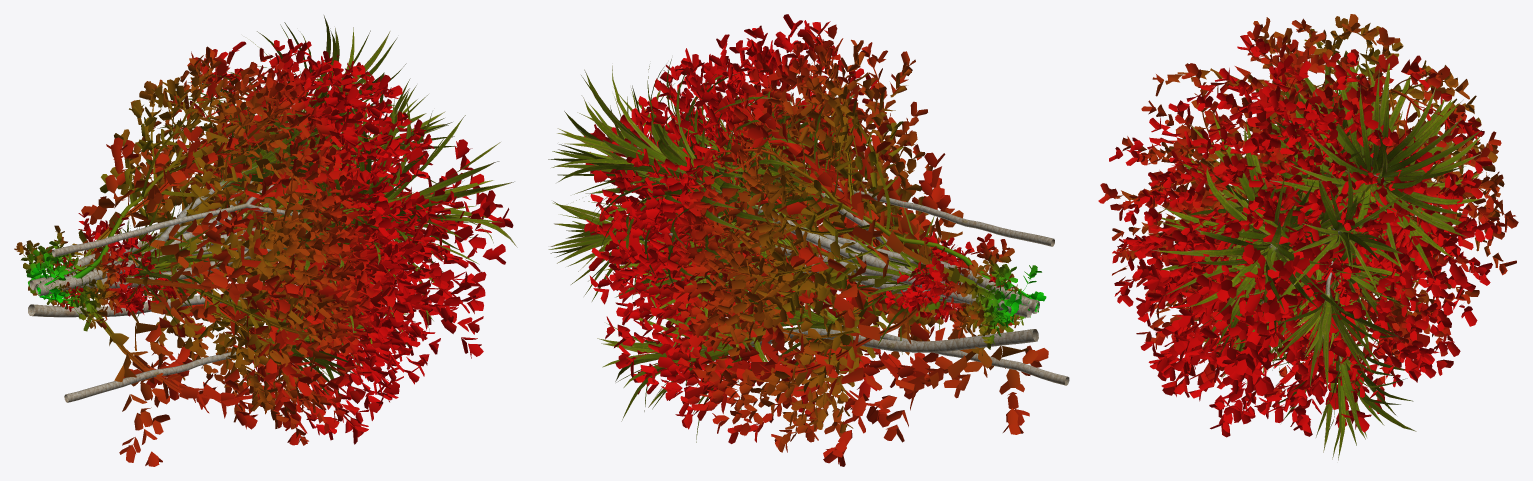
Rendered from Vegetation1.fbx.
3 views of the same model, side by side, from view 1: azimuth 30°, elevation 25°; view 2: azimuth 150°, elevation 25°; view 3: azimuth 270°, elevation 25° (orthographic). The views are drawn at different scales.
Parts seen in each view (by area): view 1: _0lym_Var1_LOD4, _tqwv_Var2_LOD4, _c9yq_Var3_LOD4, _ubx0_Var9_LOD4, _leod_Var6_LOD3, _tbmz_Var4_LOD3, _jtq7_Var3_LOD3, _lfnb_Var2_LOD3, _zkah_Var5_LOD3, _3dai_Var8_LOD3, _oy5o_Var1_LOD3, _8gg7_Var7_LOD3 (+1 smaller); view 2: _c9yq_Var3_LOD4, _tqwv_Var2_LOD4, _0lym_Var1_LOD4, _jtq7_Var3_LOD3, _leod_Var6_LOD3, _ubx0_Var9_LOD4, _zkah_Var5_LOD3, _lfnb_Var2_LOD3, _3dai_Var8_LOD3, _oy5o_Var1_LOD3, _tbmz_Var4_LOD3; view 3: _tqwv_Var2_LOD4, _c9yq_Var3_LOD4, _0lym_Var1_LOD4, _jtq7_Var3_LOD3, _tbmz_Var4_LOD3, _leod_Var6_LOD3, _zkah_Var5_LOD3, _oy5o_Var1_LOD3, _lfnb_Var2_LOD3.
Boxes of the visible parts, x1,y1,x2,y2 form: _0lym_Var1_LOD4: [38, 57, 513, 466]; _tqwv_Var2_LOD4: [36, 39, 468, 440]; _c9yq_Var3_LOD4: [37, 48, 439, 445]; _ubx0_Var9_LOD4: [14, 212, 185, 329]; _leod_Var6_LOD3: [29, 78, 476, 410]; _tbmz_Var4_LOD3: [36, 95, 517, 351]; _jtq7_Var3_LOD3: [36, 15, 406, 295]; _lfnb_Var2_LOD3: [36, 84, 368, 294]; _zkah_Var5_LOD3: [28, 147, 408, 403]; _3dai_Var8_LOD3: [37, 192, 211, 326]; _oy5o_Var1_LOD3: [36, 104, 434, 341]; _8gg7_Var7_LOD3: [106, 219, 179, 310]; _c9yq_Var3_LOD4: [612, 31, 1038, 452]; _tqwv_Var2_LOD4: [584, 14, 1038, 416]; _0lym_Var1_LOD4: [584, 47, 1048, 466]; _jtq7_Var3_LOD3: [551, 59, 1039, 313]; _leod_Var6_LOD3: [548, 83, 1069, 385]; _ubx0_Var9_LOD4: [876, 231, 1046, 355]; _zkah_Var5_LOD3: [597, 153, 1038, 442]; _lfnb_Var2_LOD3: [603, 85, 1039, 361]; _3dai_Var8_LOD3: [839, 203, 1037, 354]; _oy5o_Var1_LOD3: [584, 105, 1039, 361]; _tbmz_Var4_LOD3: [577, 62, 1039, 361]; _tqwv_Var2_LOD4: [1098, 14, 1518, 424]; _c9yq_Var3_LOD4: [1110, 28, 1505, 410]; _0lym_Var1_LOD4: [1128, 50, 1476, 437]; _jtq7_Var3_LOD3: [1265, 50, 1483, 280]; _tbmz_Var4_LOD3: [1149, 95, 1414, 375]; _leod_Var6_LOD3: [1180, 54, 1407, 390]; _zkah_Var5_LOD3: [1268, 173, 1416, 460]; _oy5o_Var1_LOD3: [1196, 119, 1445, 361]; _lfnb_Var2_LOD3: [1242, 56, 1426, 364].
Bounding box in the file's own units: 634 × 501 × 497.
